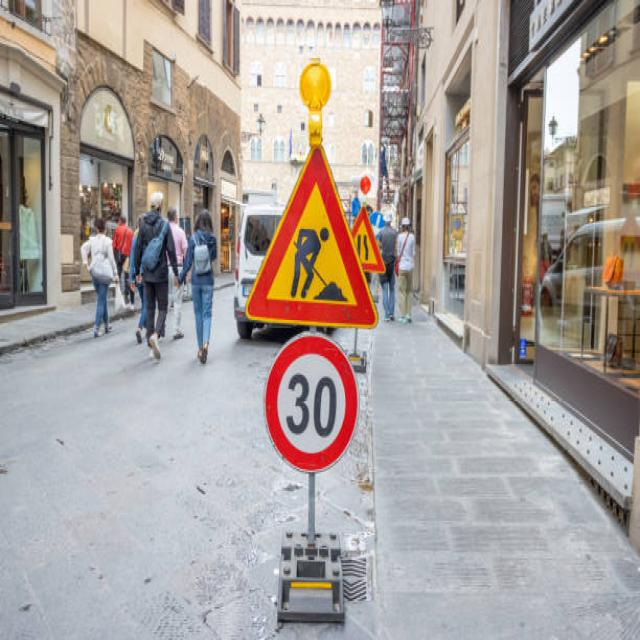Speed limit 30: (262, 329, 361, 476)
